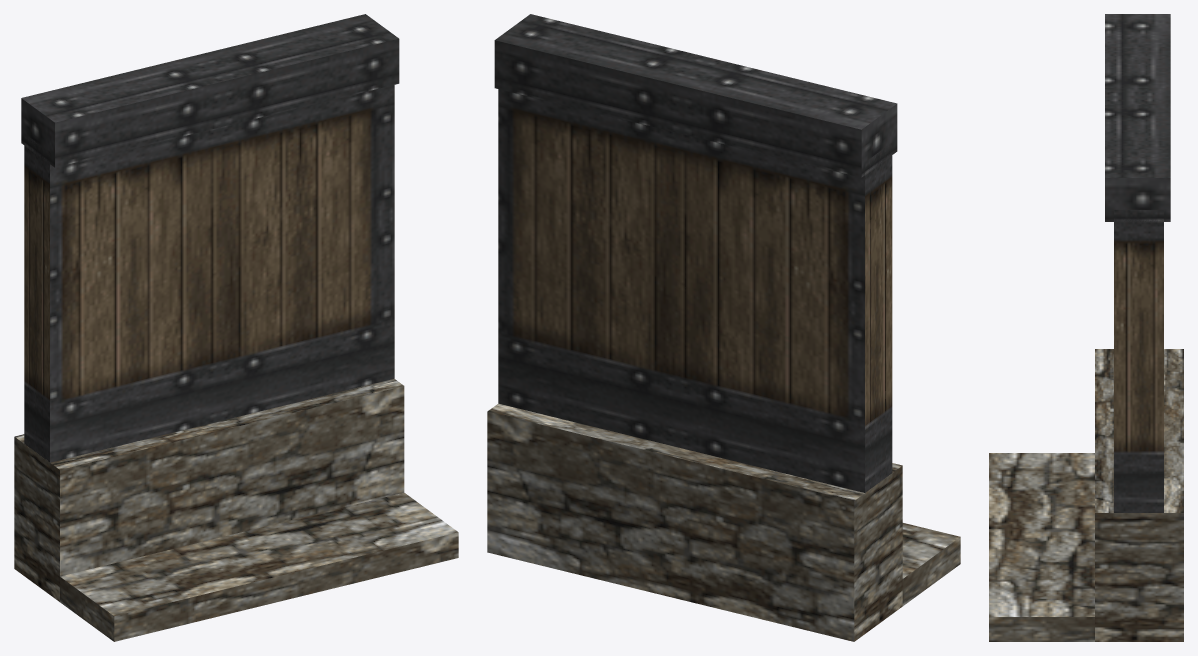
The picture shows the model from 3 angles, left to right: view 1: azimuth 30°, elevation 25°; view 2: azimuth 150°, elevation 25°; view 3: azimuth 270°, elevation 25°; orthographic projection. The views are drawn at different scales.
Visible parts, largest first — view 1: a78; view 2: a78; view 3: a78.
Part boxes in pixels (x1,y1,x2,y2): a78: (14,14,458,641); a78: (487,14,960,641); a78: (989,14,1183,641).
Size of the model in its own units: 508 by 671 by 255.
